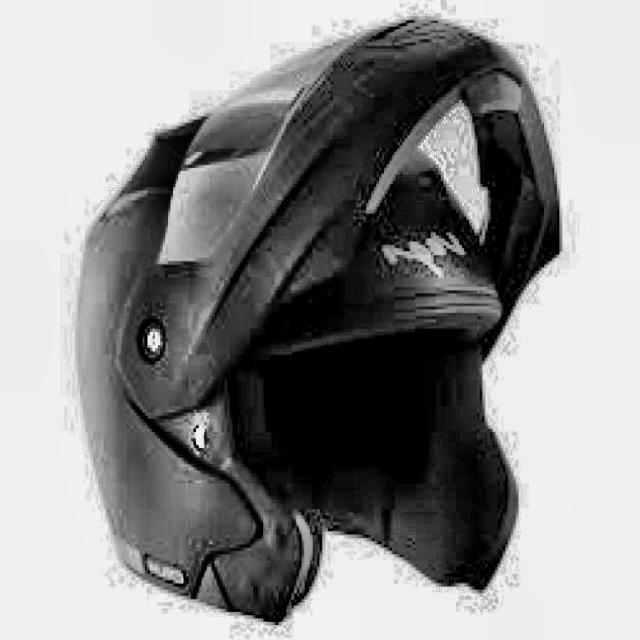Helmet: (71, 13, 564, 625)
